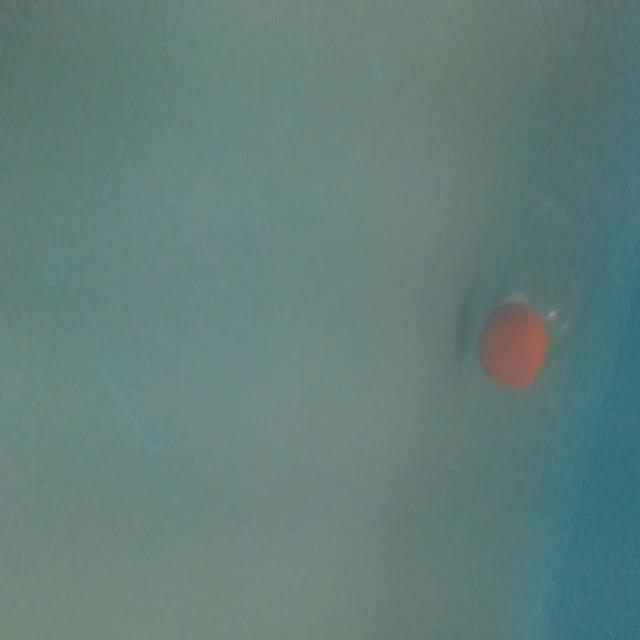plastic bottle: (473, 134, 620, 398)
